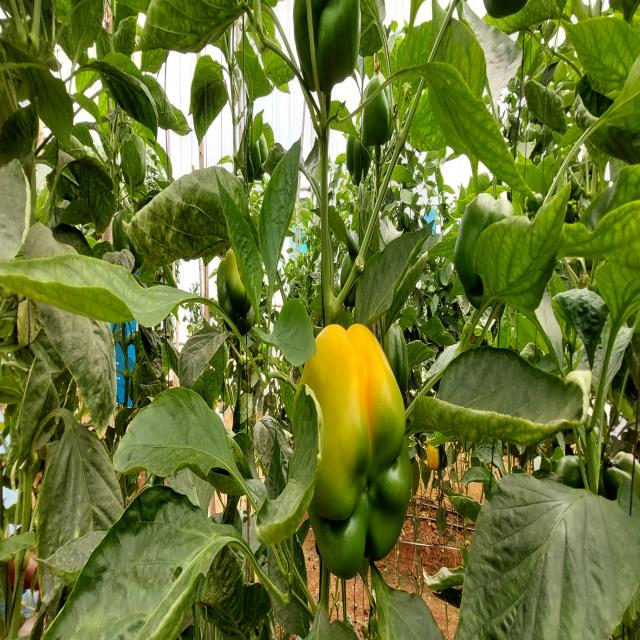GreenishYellow--Can-be-Harvested: (290, 331, 420, 576)
